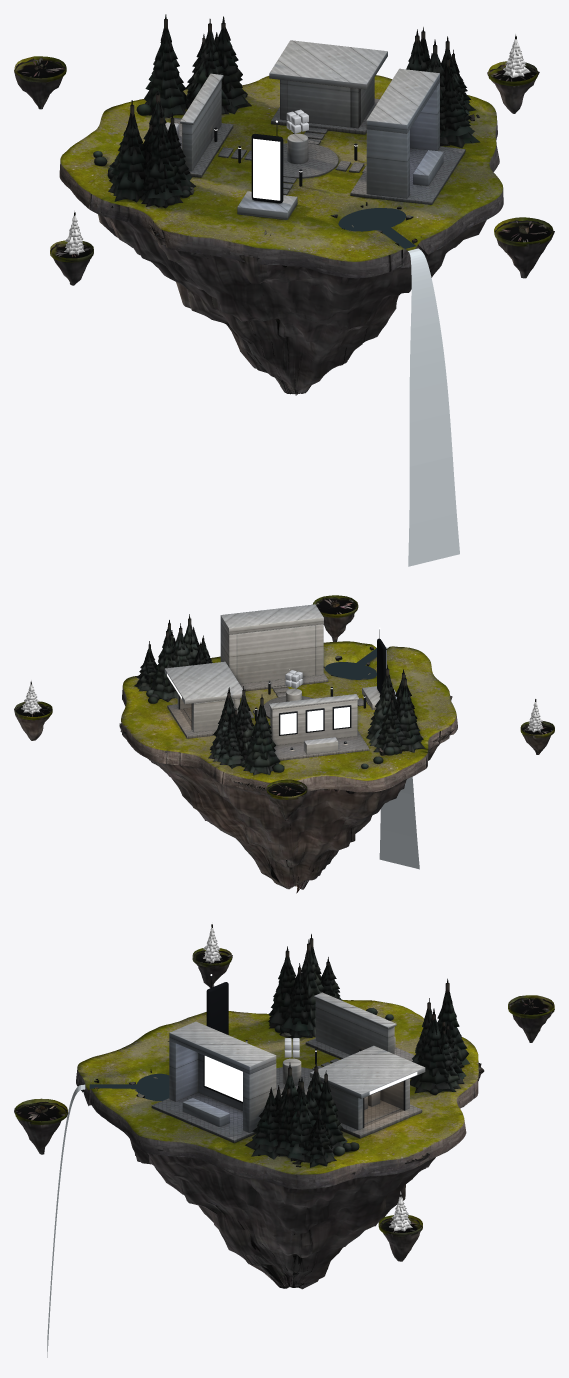
The model's file is island.glb.
The picture shows the model from 3 angles, top to bottom: view 1: azimuth 30°, elevation 25°; view 2: azimuth 150°, elevation 25°; view 3: azimuth 270°, elevation 25°; orthographic projection. The views are drawn at different scales.
Parts seen in each view (by area): view 1: baked_ground, baked_rock, baked_arch, baked_top, realtime_waterfall, screen_phone, realtime_water; view 2: baked_ground, baked_arch, baked_rock, baked_top, realtime_waterfall, realtime_water, realtime_tower; view 3: baked_ground, baked_rock, baked_arch, baked_top, screen_monitor, realtime_glass_store, realtime_tower, realtime_water, realtime_waterfall.
Boxes of the visible parts, x1,y1,x2,y2 form: baked_ground: (59, 75, 503, 278); baked_rock: (14, 36, 554, 395); baked_arch: (165, 40, 465, 219); baked_top: (93, 14, 480, 245); realtime_waterfall: (408, 248, 459, 566); screen_phone: (253, 138, 280, 200); realtime_water: (338, 208, 415, 248); baked_ground: (121, 641, 457, 793); baked_arch: (164, 604, 396, 760); baked_rock: (14, 595, 554, 893); baked_top: (134, 614, 429, 775); realtime_waterfall: (379, 647, 419, 869); realtime_water: (325, 648, 376, 679); realtime_tower: (377, 638, 386, 693); baked_ground: (76, 999, 478, 1189); baked_rock: (14, 924, 554, 1289); baked_arch: (151, 976, 425, 1142); baked_top: (94, 934, 469, 1167); screen_monitor: (204, 1056, 242, 1101); realtime_glass_store: (364, 1081, 403, 1126); realtime_tower: (206, 982, 228, 1034); realtime_water: (89, 1073, 169, 1100); realtime_waterfall: (47, 1084, 85, 1357).
Bounding box in the file's own units: 20.79 × 13.43 × 18.49.
Materials: 14 (4 with a texture image).
